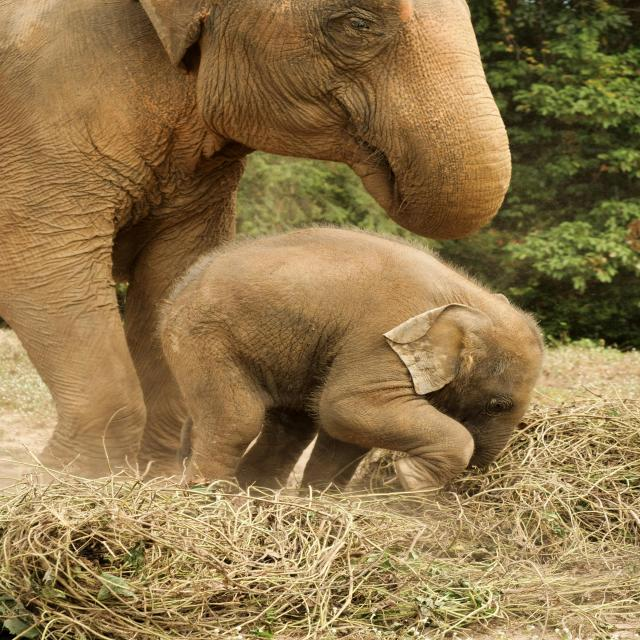Elephant: (0, 1, 512, 476), (163, 225, 544, 497)
